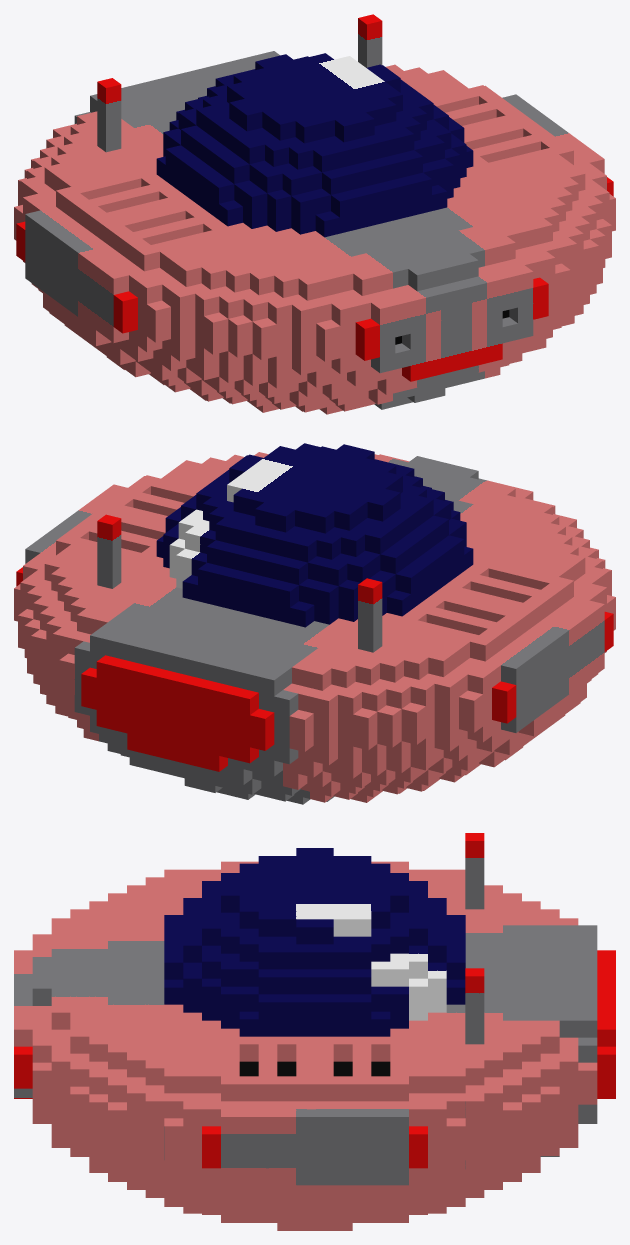
Rendered from enemy.gltf.
3 renders of one model, top to bottom at view 1: azimuth 30°, elevation 25°; view 2: azimuth 150°, elevation 25°; view 3: azimuth 270°, elevation 25°, orthographic. The views are drawn at different scales.
Parts seen in each view (by area): view 1: Enemy-Mesh; view 2: Enemy-Mesh; view 3: Enemy-Mesh.
Part boxes in pixels (x1,y1,x2,y2): Enemy-Mesh: (14, 14, 615, 414); Enemy-Mesh: (14, 443, 615, 804); Enemy-Mesh: (14, 833, 615, 1230).
Bounding box in the file's own units: 32 × 16 × 32.
1 material, 1 textured.
